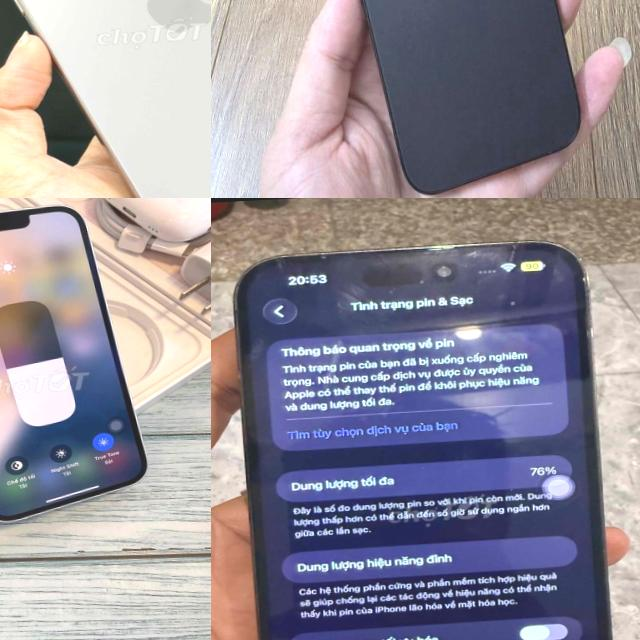gen_12_13: (0, 200, 154, 531)
gen_14: (211, 223, 640, 640)
gen_15: (0, 0, 211, 198)
gen_16: (361, 0, 579, 191)
